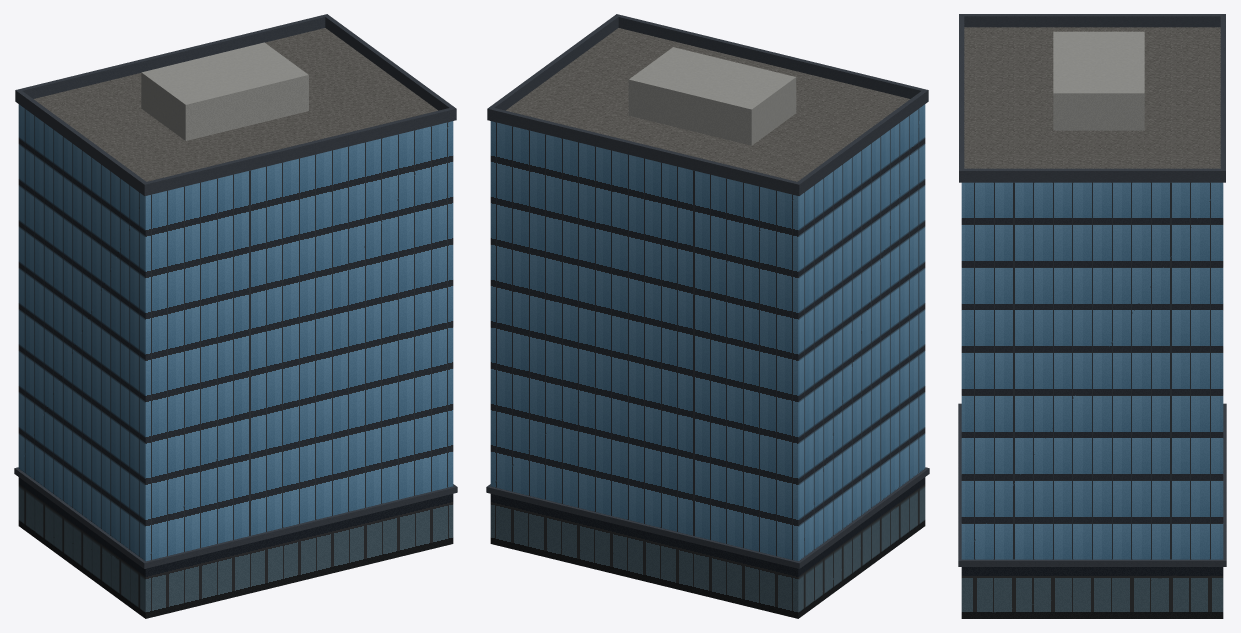
The model's file is glass_blue_midrise.glb.
3 views of the same model, side by side, from view 1: azimuth 30°, elevation 25°; view 2: azimuth 150°, elevation 25°; view 3: azimuth 270°, elevation 25° (orthographic). The views are drawn at different scales.
Parts seen in each view (by area): view 1: glass_blue_midrise; view 2: glass_blue_midrise; view 3: glass_blue_midrise.
Part boxes in pixels (x1,y1,x2,y2): glass_blue_midrise: (14, 14, 457, 618); glass_blue_midrise: (486, 14, 929, 618); glass_blue_midrise: (958, 14, 1226, 618).
Bounding box in the file's own units: 28.5 × 40.1 × 20.5.
5 materials, 5 textured.
